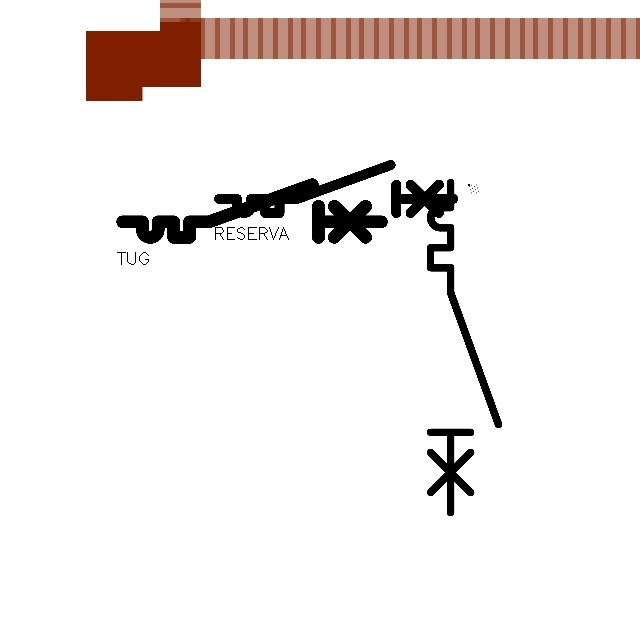interruptor_termomagnetico: (422, 174, 507, 521), (116, 178, 388, 244), (213, 159, 459, 219)
